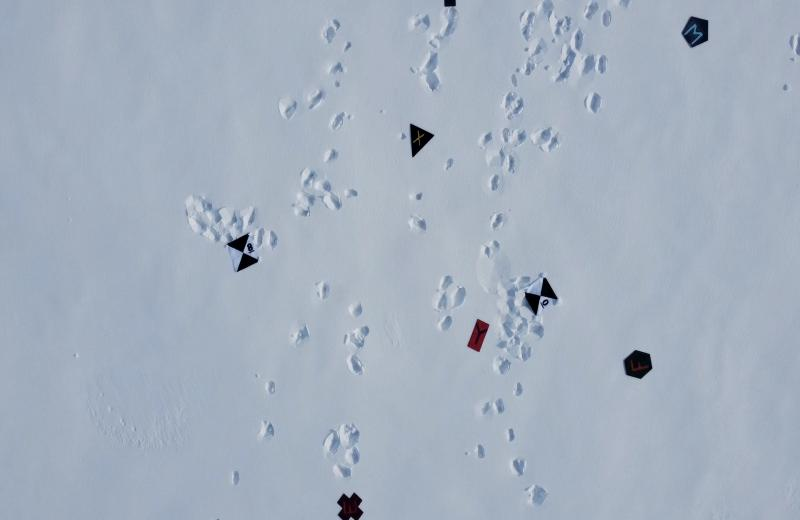Cross: (332, 489, 367, 520)
Hexagon: (622, 345, 654, 382)
Pentagon: (679, 11, 713, 52)
Rectangle: (466, 318, 492, 354)
Triangle: (405, 118, 436, 156)
